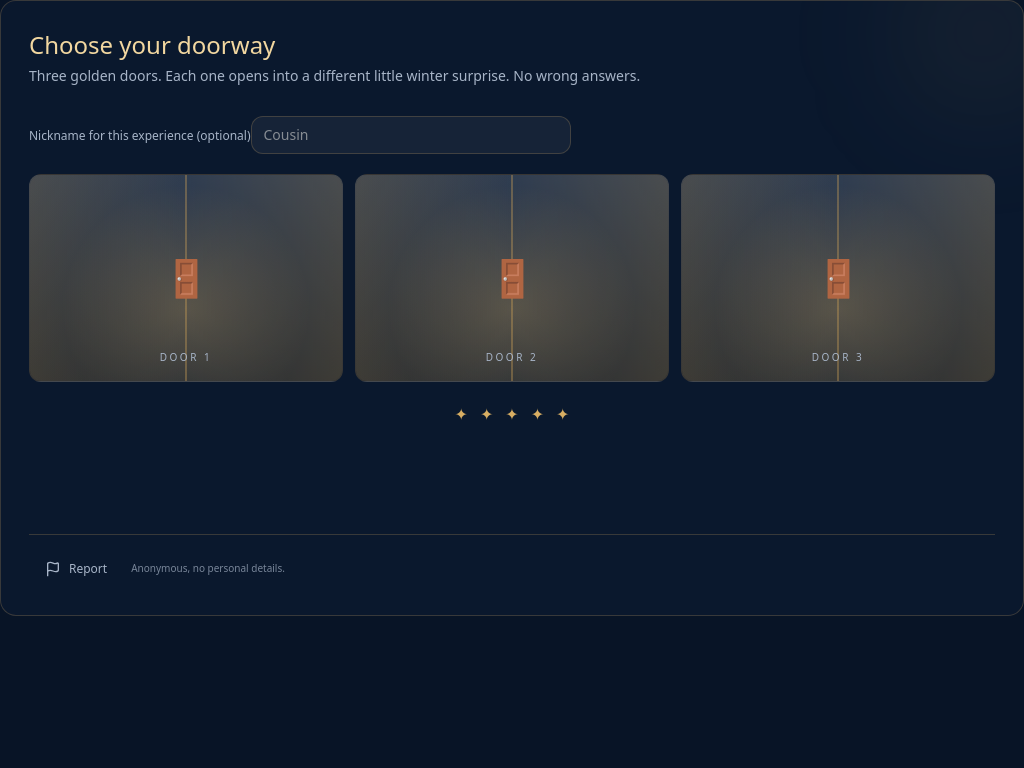
Scenario: Universe interactions › a golden door reveals an organizer-written surprise
This screenshot has width=1024, height=768.
Click the button with aria-label "Open golden door 1": (186, 278) [29, 174, 343, 382]
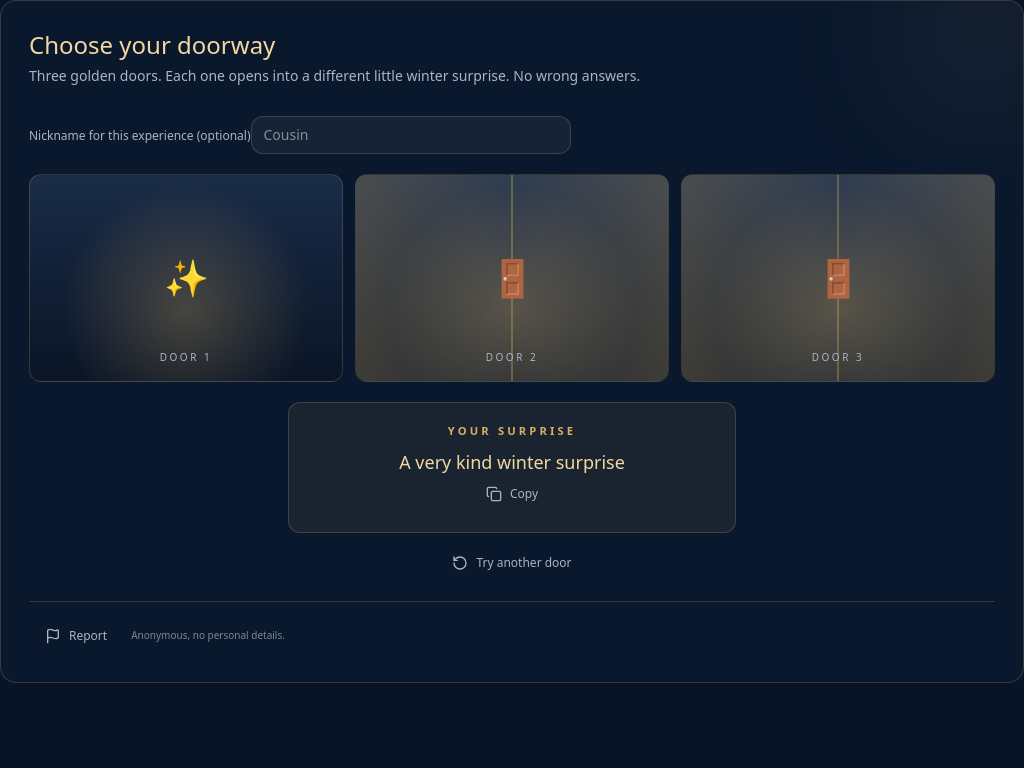
Result: the text "A very kind winter surprise" is shown at [399, 450, 625, 474]
Result: the button "Try another door" is shown at [436, 544, 588, 580]
